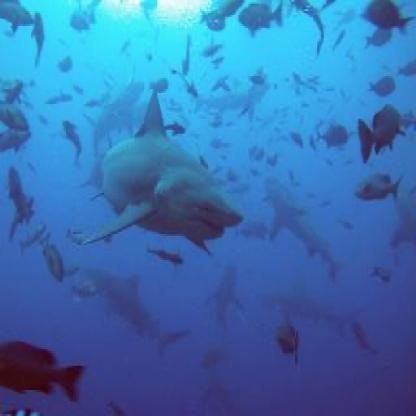shark: (79, 75, 245, 276)
